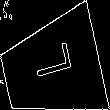L_W: (28, 48, 76, 90)
